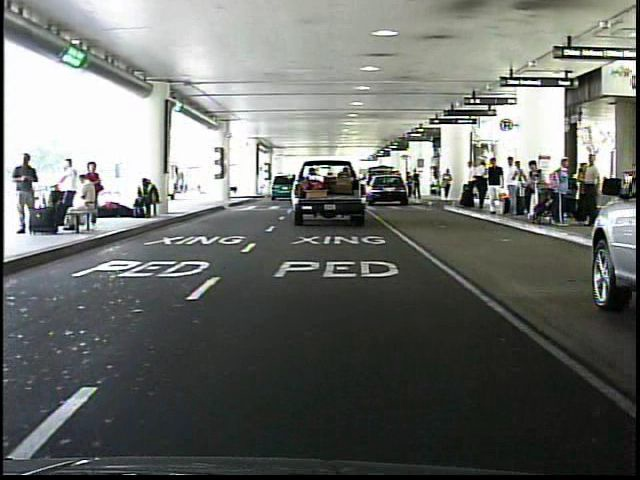person: (16, 152, 46, 240), (481, 154, 507, 224), (503, 155, 524, 220), (460, 155, 481, 213), (439, 166, 455, 205), (404, 169, 414, 202), (413, 168, 422, 203)
